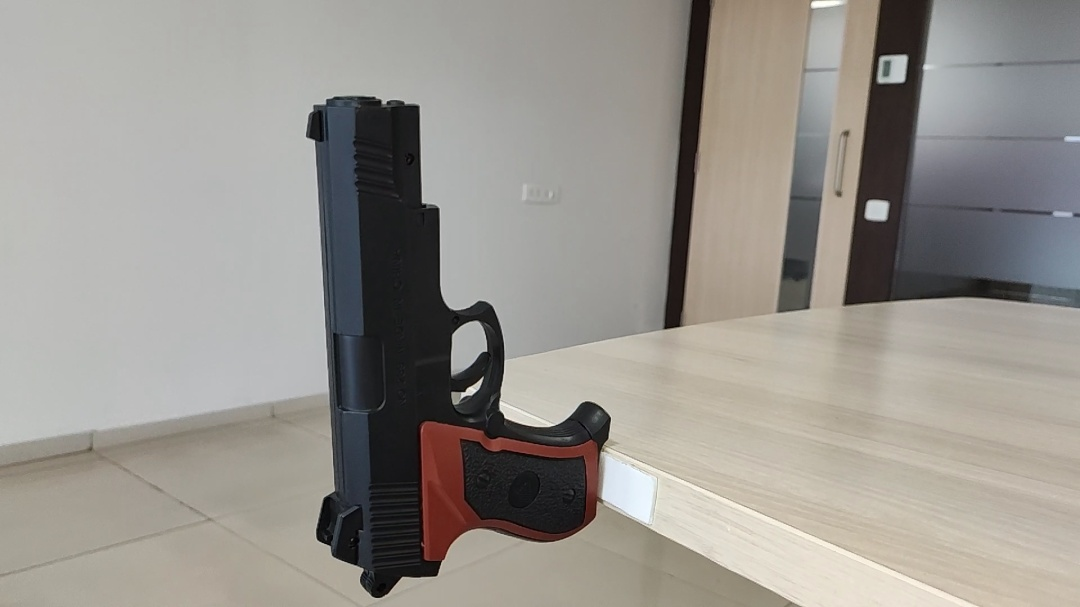gun: (300, 98, 614, 600)
